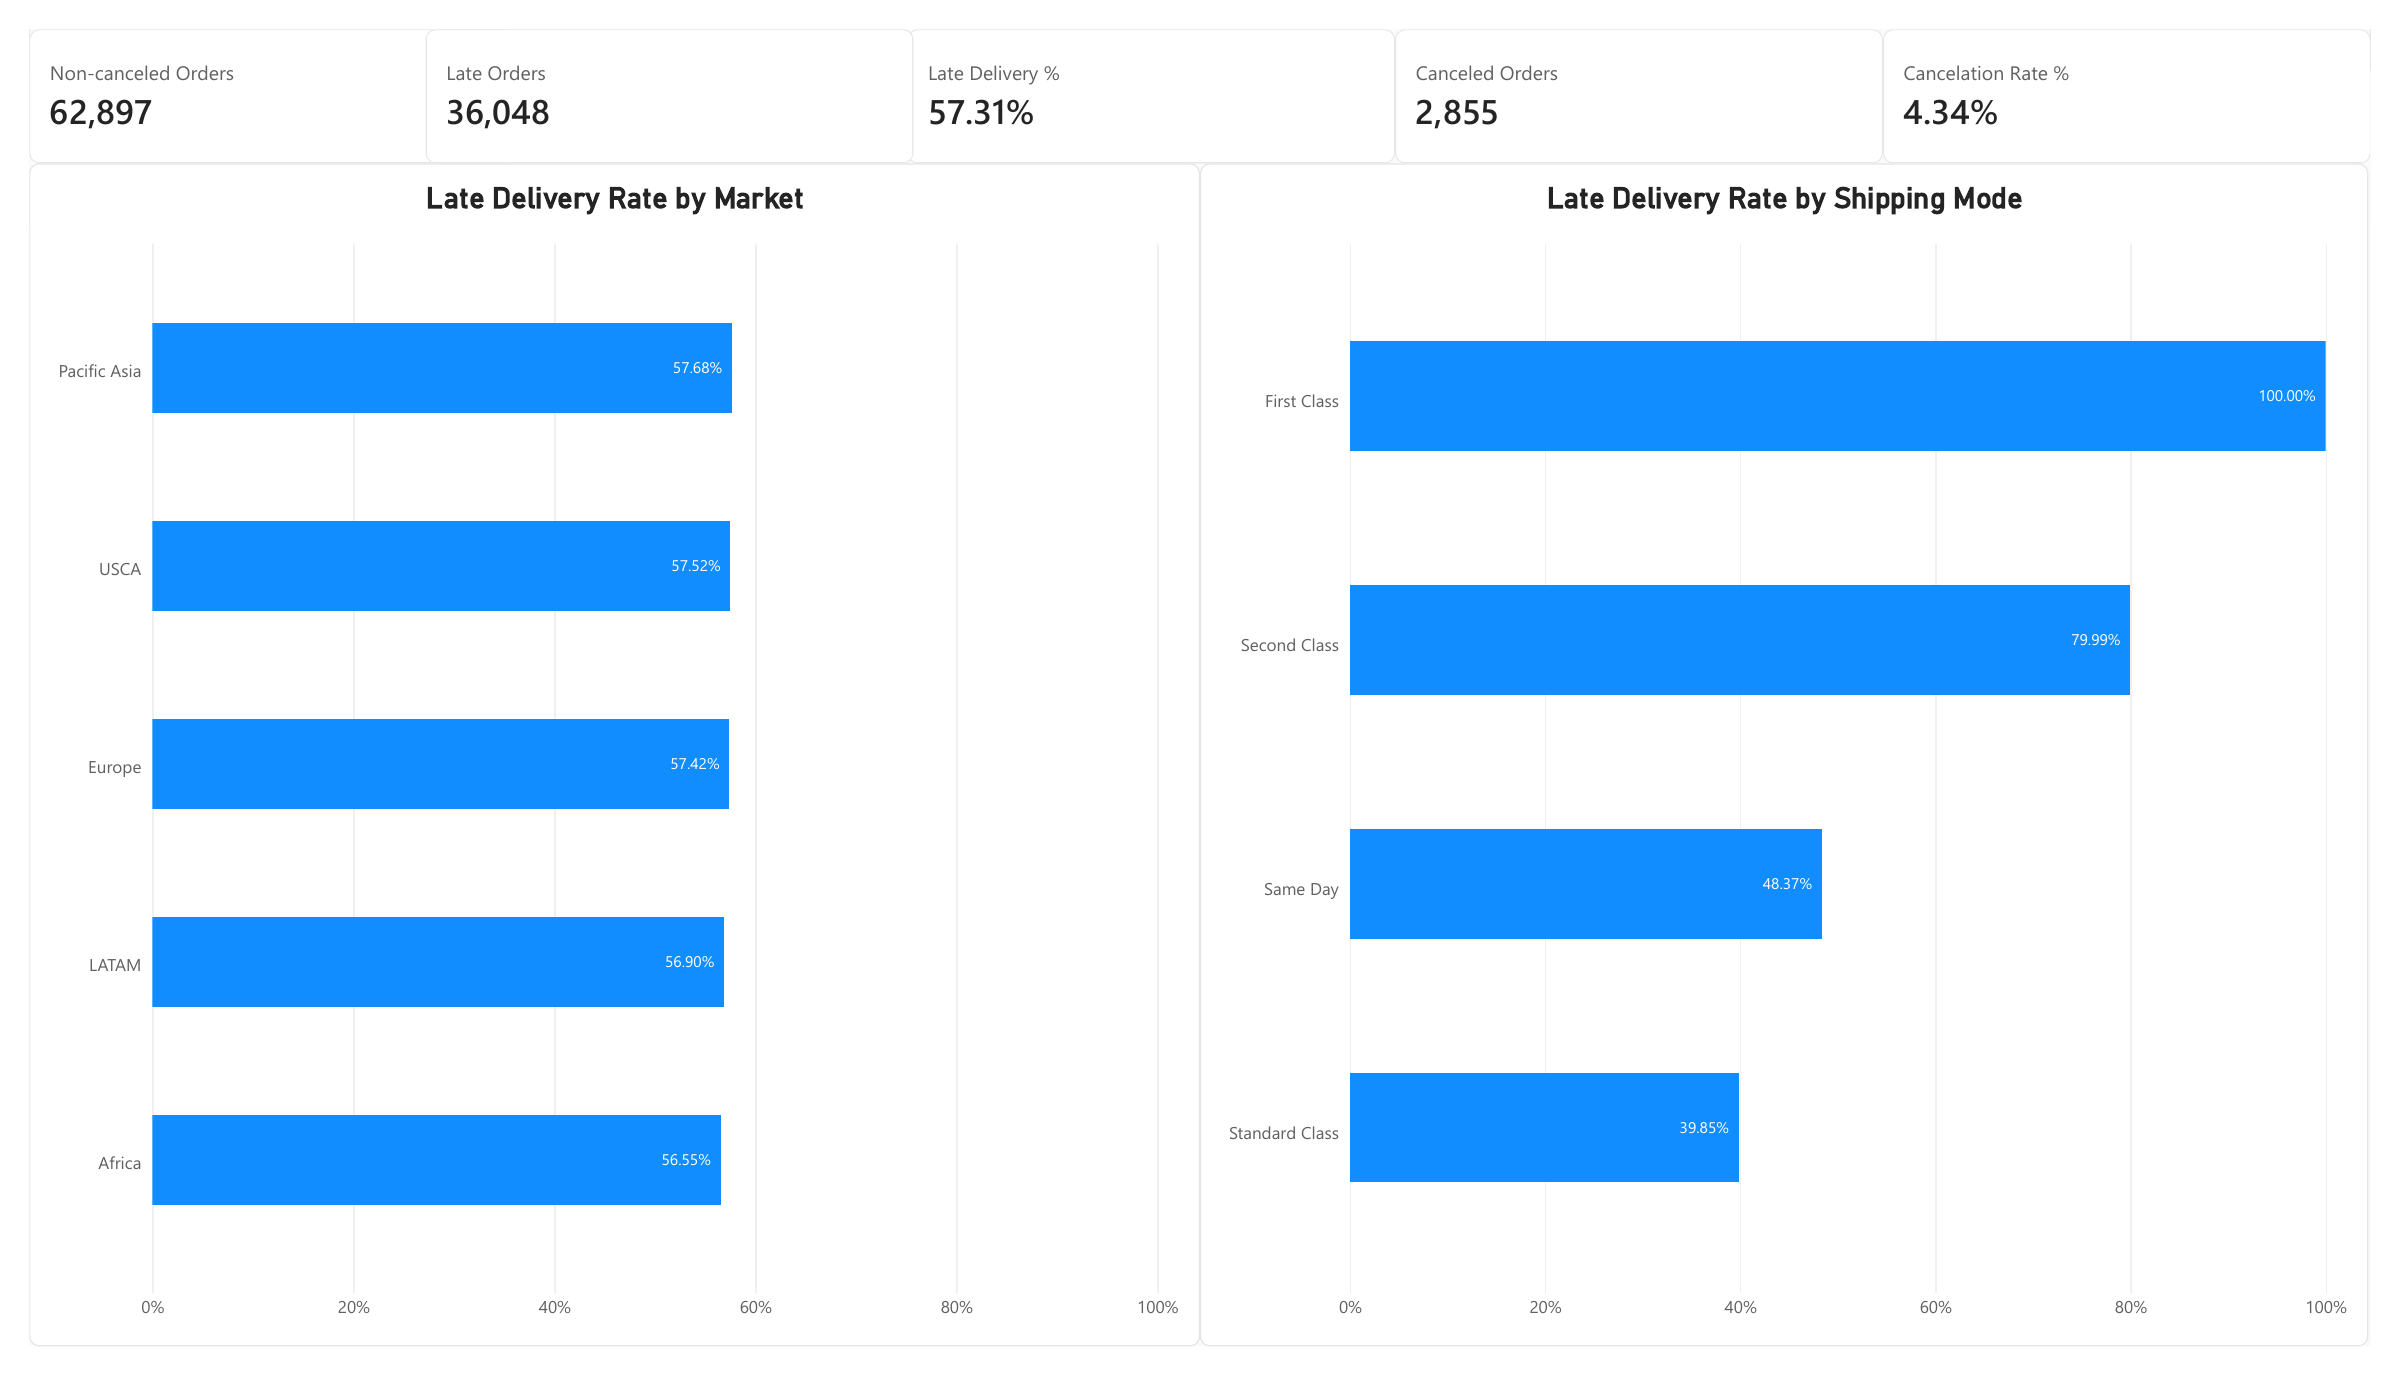

Layout of this report page (visuals, bound fields, positions):
{"tool":"powerbi","page":{"name":"Delivery Performance","canvas":[1920,1080],"ordinal":3},"visuals":[{"type":"cardVisual","fields":{"Data":["_Measures.Included Orders"]},"box":[0,0,400,110],"z":0},{"type":"cardVisual","fields":{"Data":["_Measures.Late Delivery %"]},"box":[720,0,400,110],"z":1000},{"type":"cardVisual","fields":{"Data":["_Measures.Late Orders"]},"box":[325,0,400,110],"z":2000},{"type":"clusteredBarChart","title":"Late Delivery Rate by Market","fields":{"Category":["dim_location.market"],"Y":["_Measures.Late Delivery %"]},"box":[0,110,960,970],"z":3000},{"type":"clusteredBarChart","title":"Late Delivery Rate by Shipping Mode","fields":{"Category":["fact_order_lines.shipping_mode"],"Y":["_Measures.Late Delivery %"]},"box":[960,110,958.3,970],"z":4000},{"type":"cardVisual","fields":{"Data":["_Measures.Canceled Orders"]},"box":[1120,0,400,110],"z":5000},{"type":"cardVisual","fields":{"Data":["_Measures.Cancelation Rate %"]},"box":[1520,0,400,110],"z":6000}]}

Visuals, with their boxes in screenshot pixels (x1, y1, x2, y2), scaled from the page's 1920x1080 canvas onto the 2400x1376 screenshot:
cardVisual - _Measures.Included Orders: l=0, t=0, r=500, b=140
cardVisual - _Measures.Late Delivery %: l=900, t=0, r=1400, b=140
cardVisual - _Measures.Late Orders: l=406, t=0, r=906, b=140
"Late Delivery Rate by Market" clusteredBarChart: l=0, t=140, r=1200, b=1375
"Late Delivery Rate by Shipping Mode" clusteredBarChart: l=1200, t=140, r=2398, b=1375
cardVisual - _Measures.Canceled Orders: l=1400, t=0, r=1900, b=140
cardVisual - _Measures.Cancelation Rate %: l=1900, t=0, r=2399, b=140
